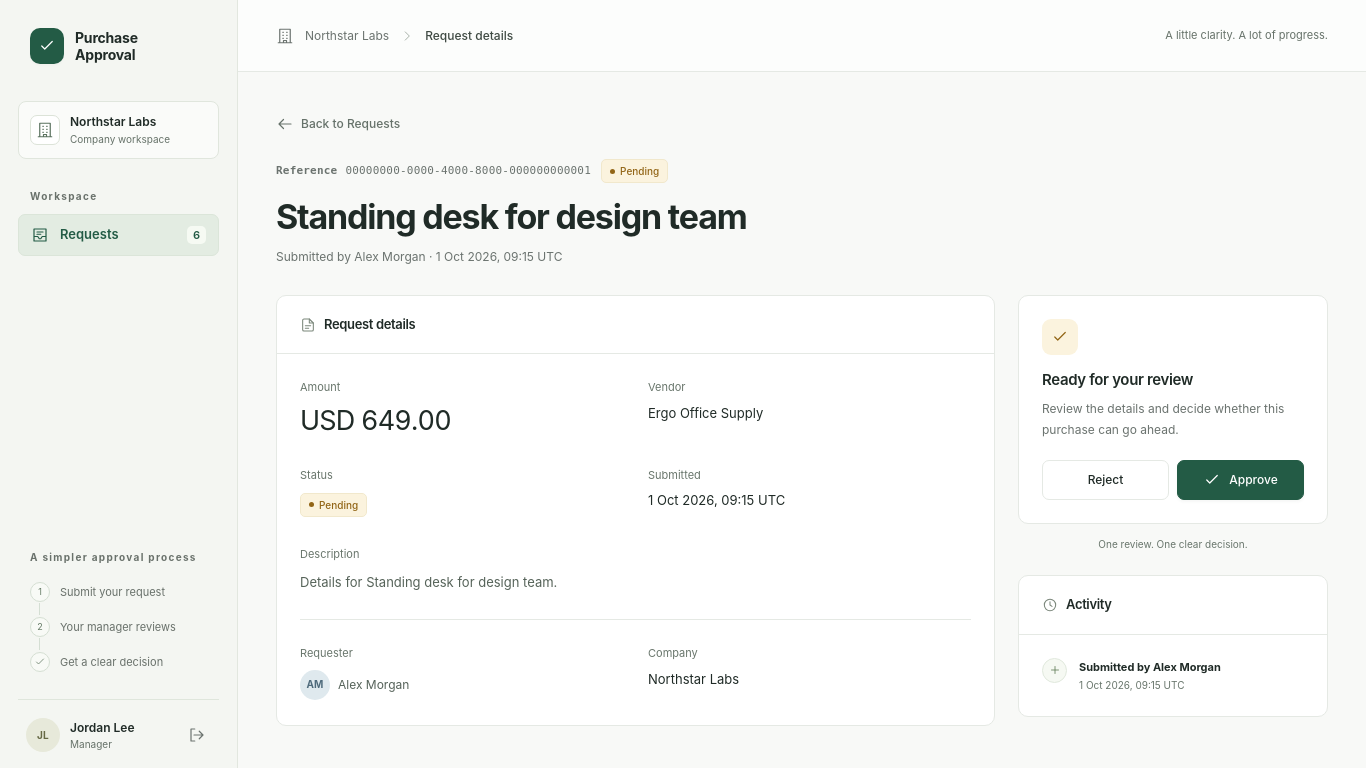
approving › disables repeated confirmation and shows progress while saving
Click the button "Approve": (1240, 480) [1177,460,1304,500]
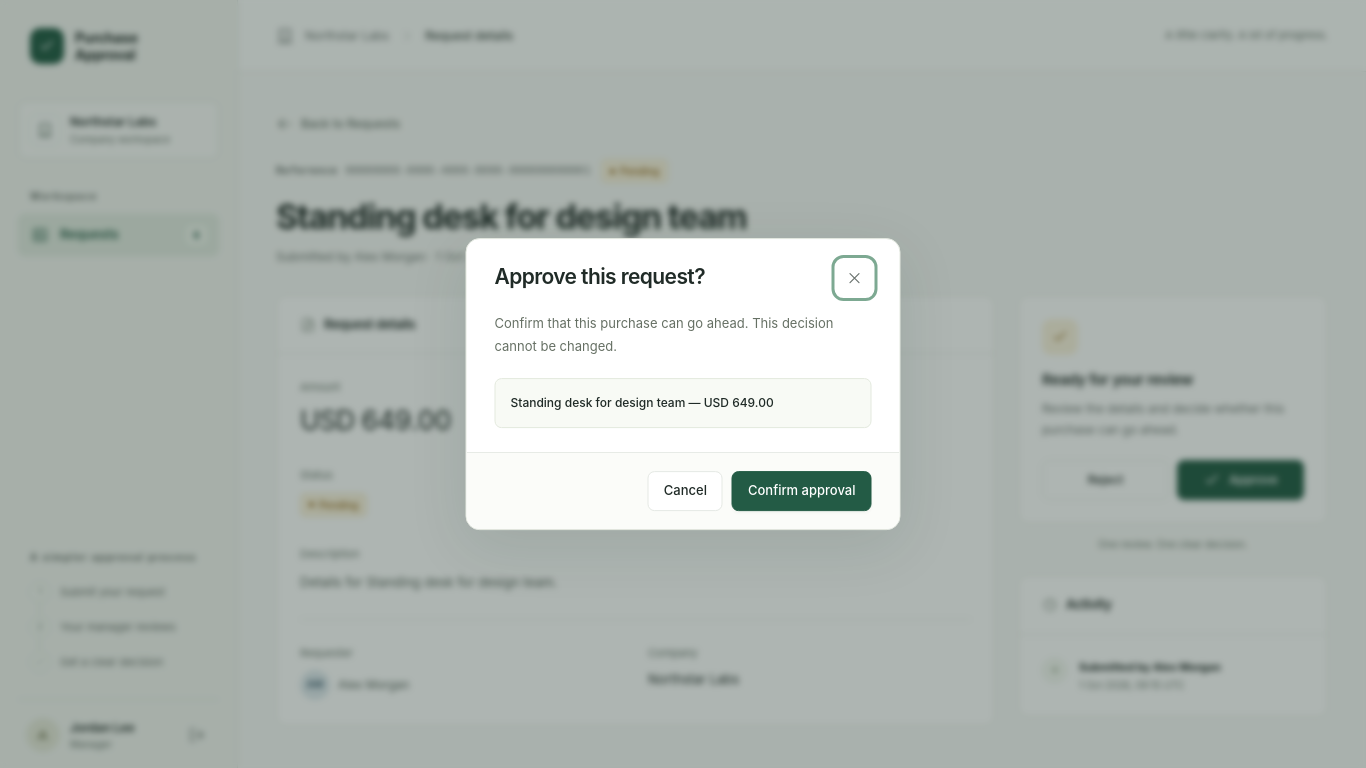
Click the button "Confirm approval": (802, 491) [732,471,872,511]
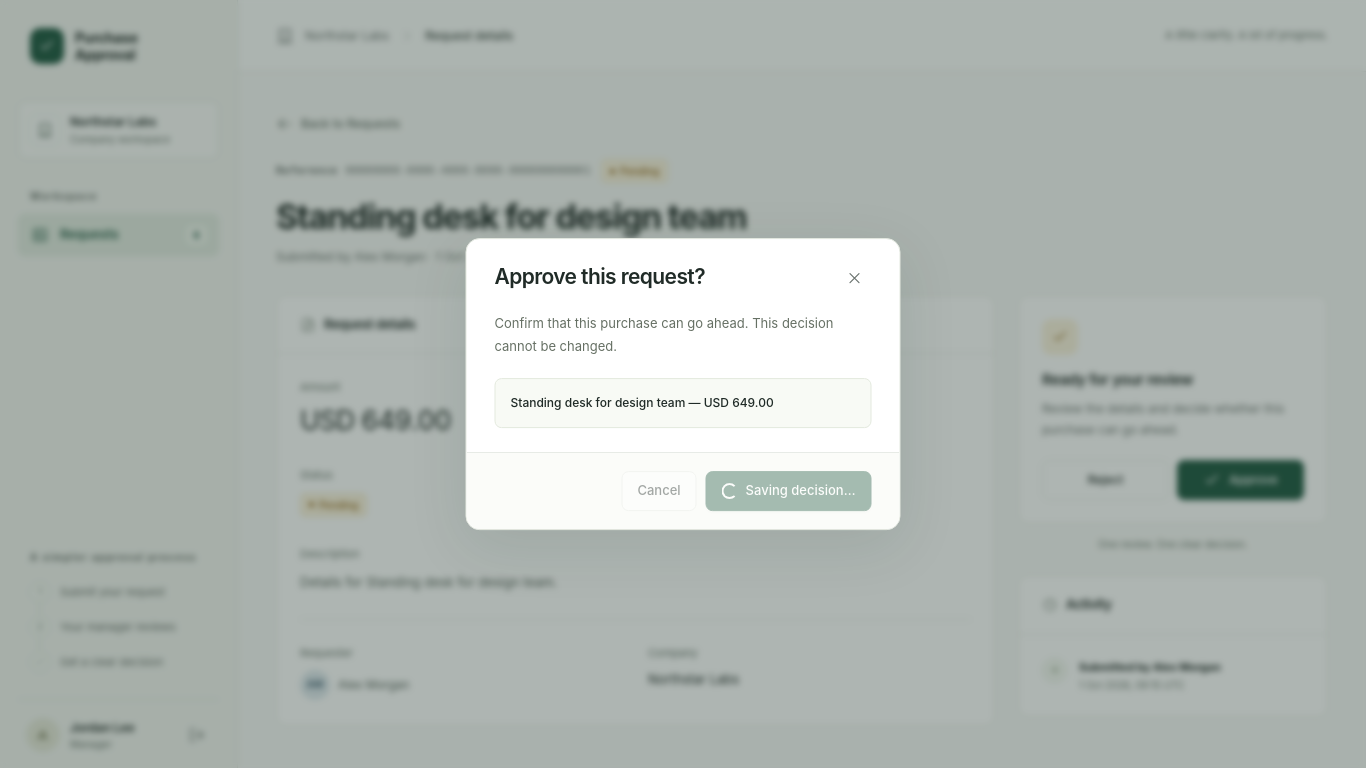
Expected: the button "Saving decision…" is disabled
Click the button "Saving decision…": (789, 491) [706,471,872,511]
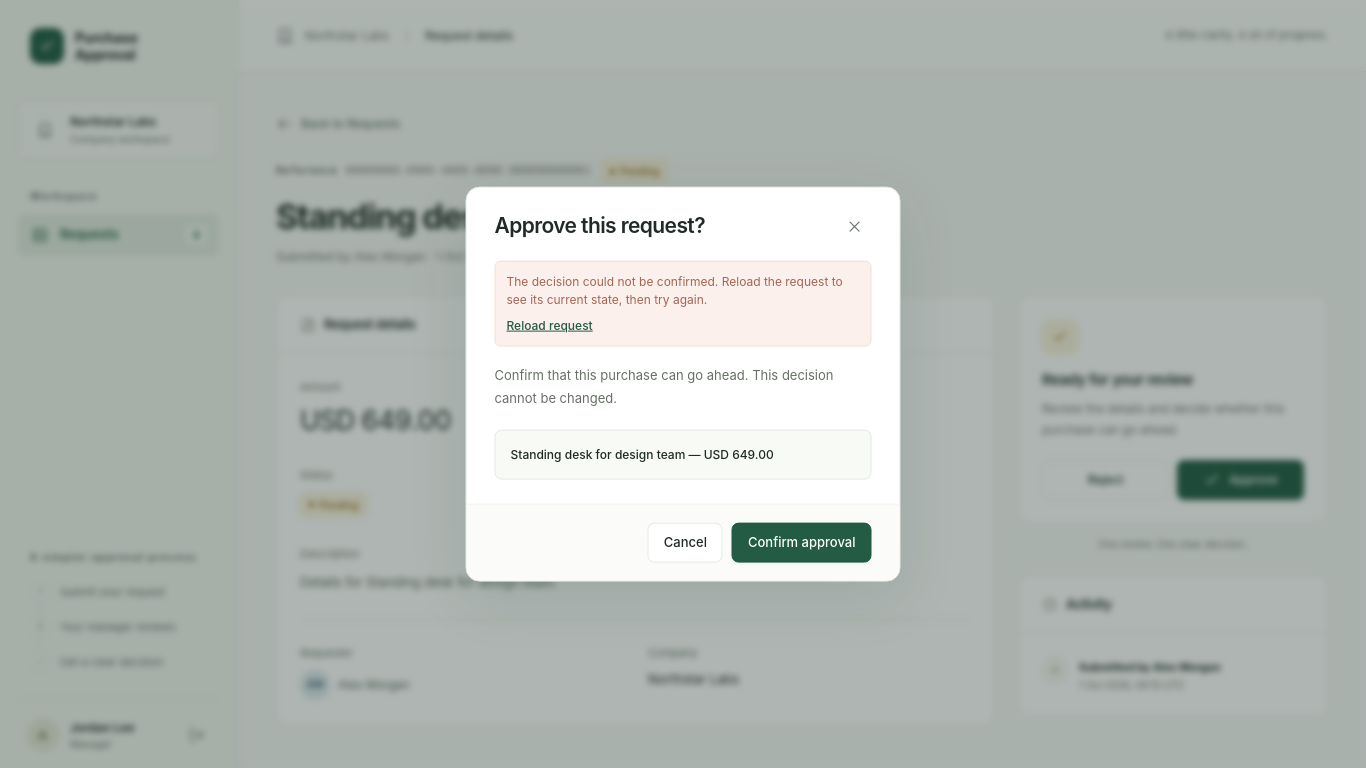
Expected: the button "Confirm approval" is shown, [732,522,872,562]
